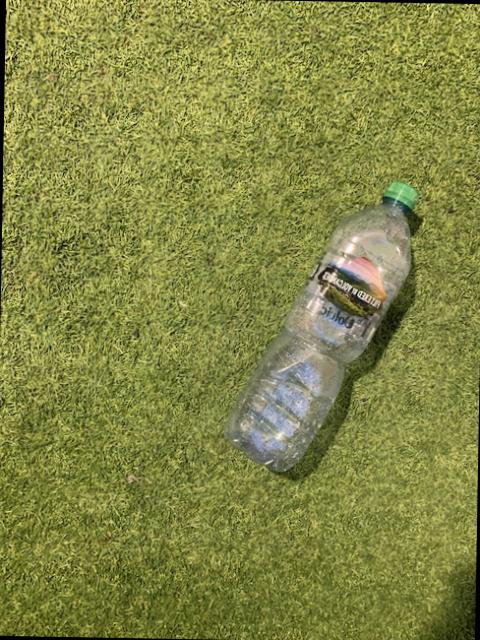plastic: (226, 181, 419, 469)
